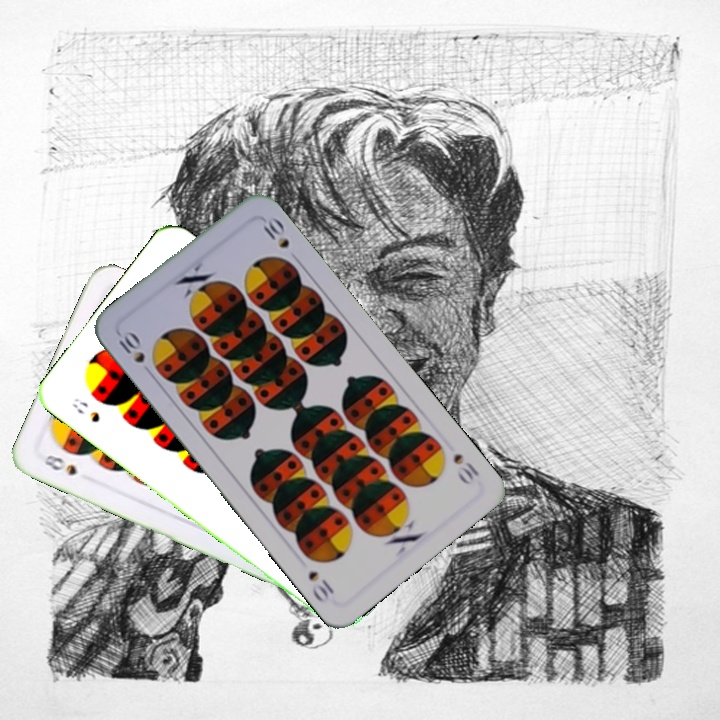S10: (114, 326, 156, 379), (449, 449, 482, 488)
S8: (67, 393, 103, 426), (39, 450, 80, 478)
